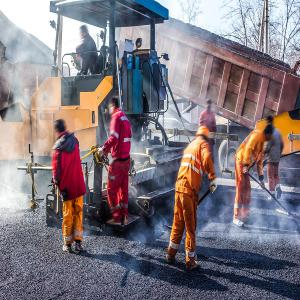none: (55, 119, 67, 137), (109, 98, 120, 116), (263, 124, 274, 142), (80, 25, 90, 41), (266, 116, 275, 128), (206, 100, 213, 113)
yellow: (198, 125, 210, 143)
